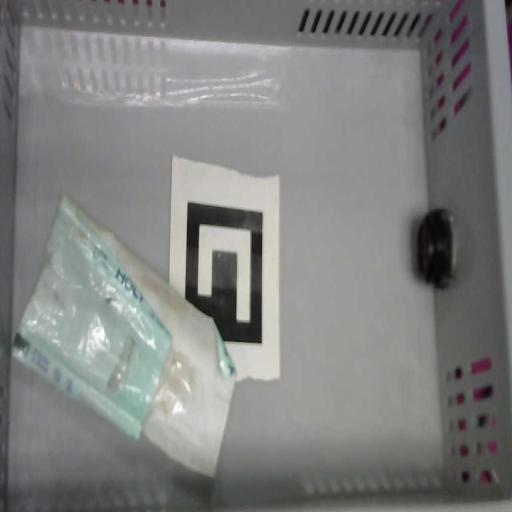QR: (168, 154, 282, 384)
triple_syringe: (11, 191, 237, 477)
